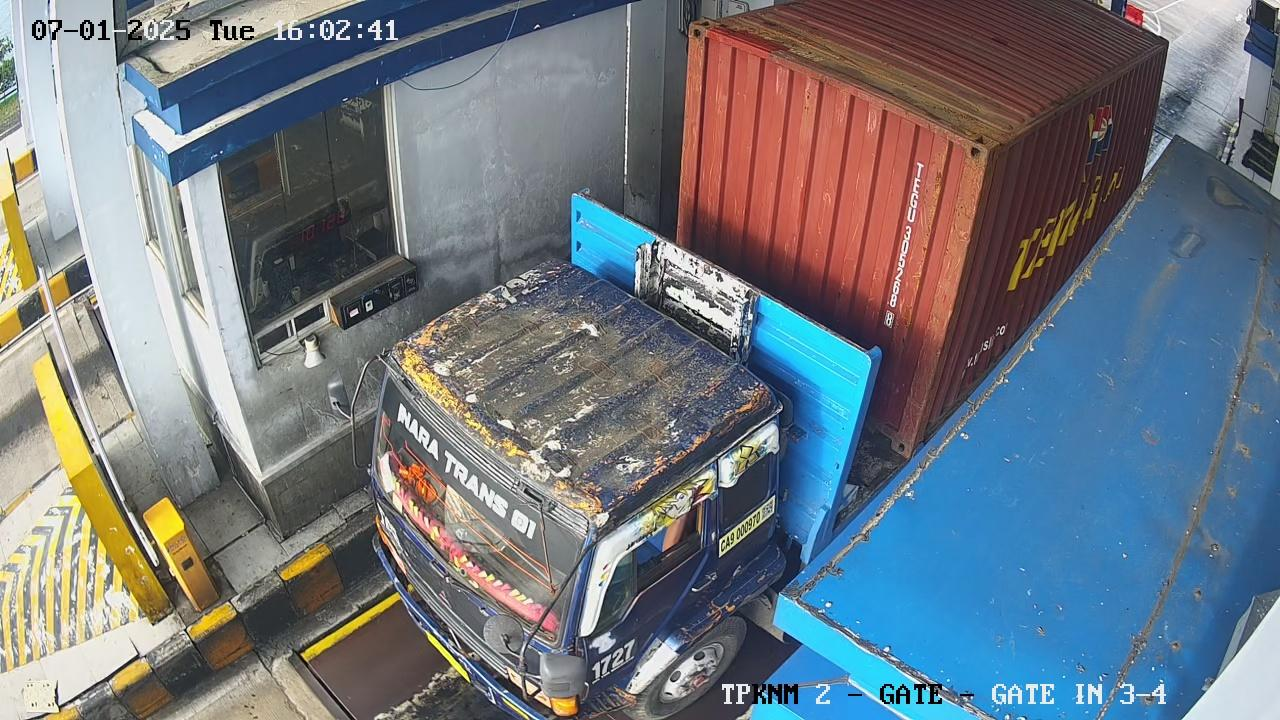Container_ID_Vertikal: (878, 160, 934, 329)
truck_id: (710, 493, 783, 558)
